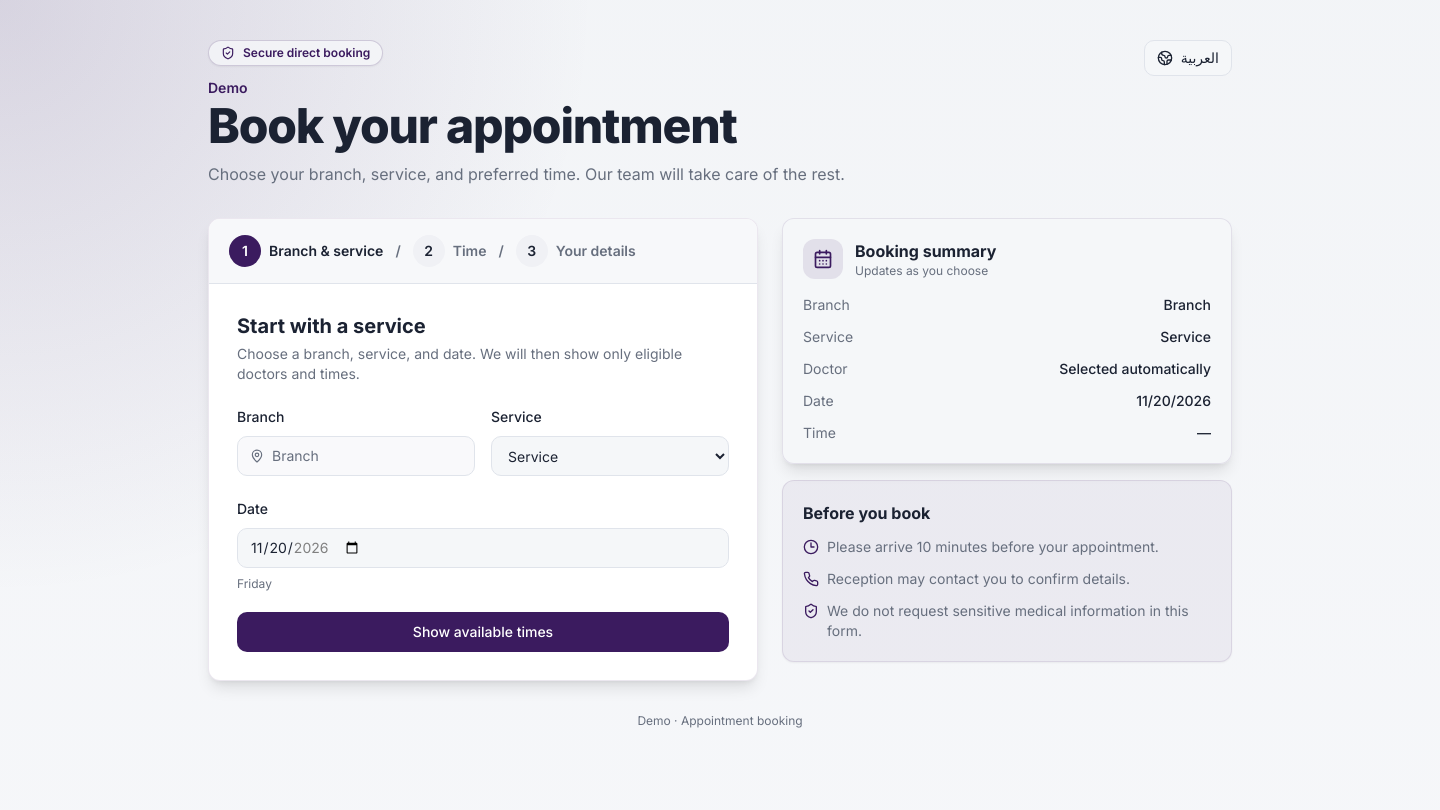
it: PublicBooking availability failures › handles rpc failure without claiming the day is full
Click the button "Show available times" at (483, 632), box [237,612,729,652]
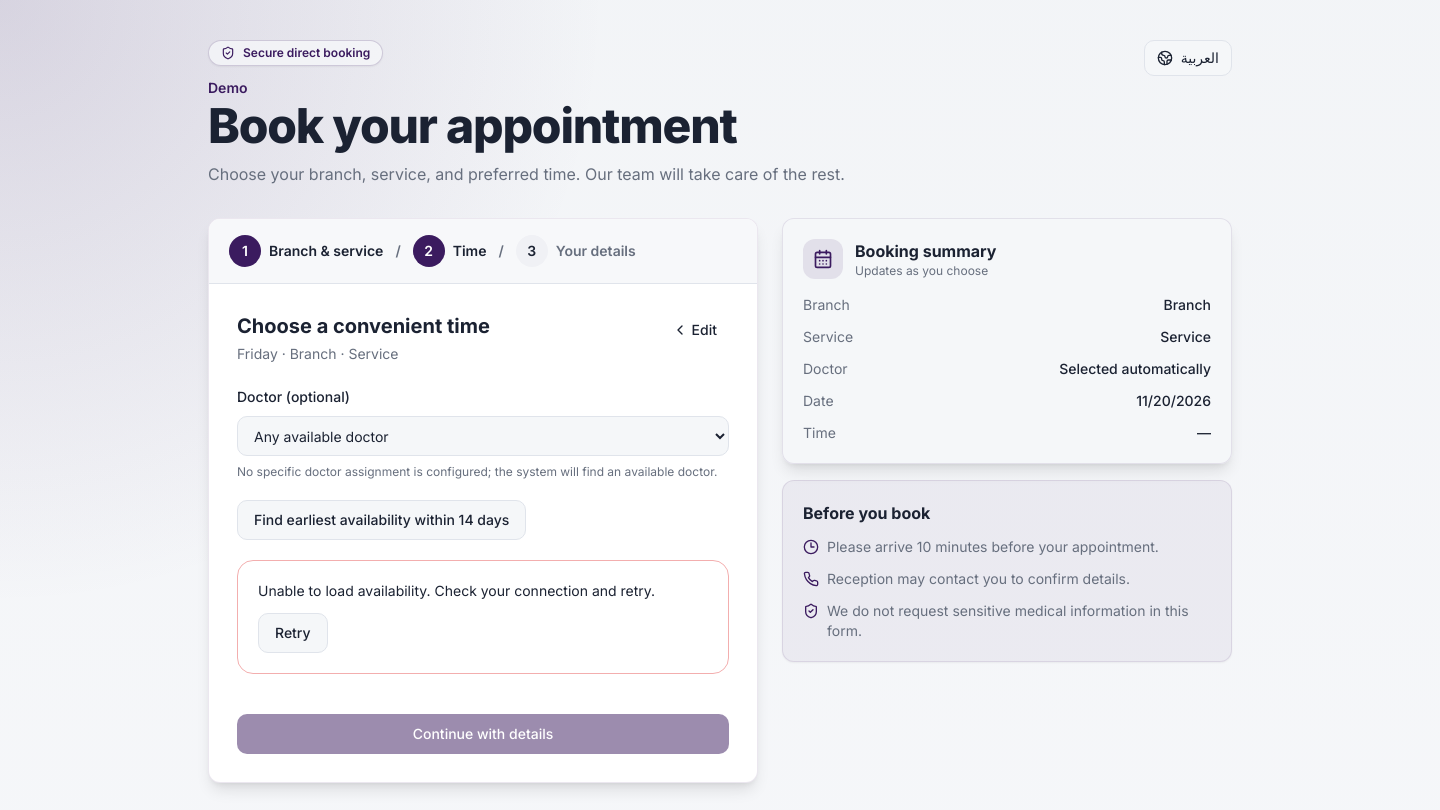
Expected: the message shows "Unable to load availability", [258,582,655,599]
Expected: the button "Retry" is enabled, [258,613,328,653]
